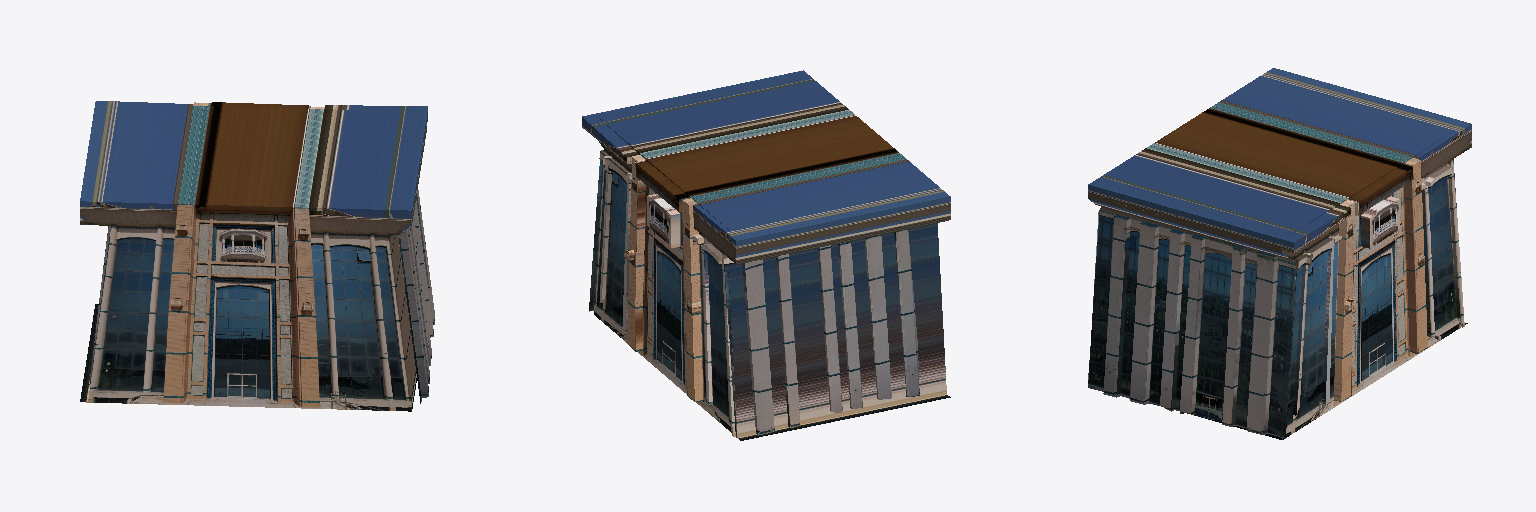
The picture shows the model from 3 angles: view 1: azimuth 30°, elevation 25°; view 2: azimuth 150°, elevation 25°; view 3: azimuth 270°, elevation 25°; orthographic projection.
Parts seen in each view (by area): view 1: fsm_front_ok, left_right_half; view 2: fsm_front_ok, left_right_half.001, left_right_half; view 3: fsm_front_ok, left_right_half.
Boxes of the visible parts, x1,y1,x2,y2 form: fsm_front_ok: [80, 101, 427, 411]; left_right_half: [399, 190, 434, 403]; fsm_front_ok: [582, 70, 950, 440]; left_right_half.001: [725, 229, 919, 437]; left_right_half: [589, 150, 603, 311]; fsm_front_ok: [1088, 68, 1471, 439]; left_right_half: [1088, 210, 1295, 438].
Size of the model in its own units: 17.49 by 9.4 by 16.21.
5 materials, 2 textured.